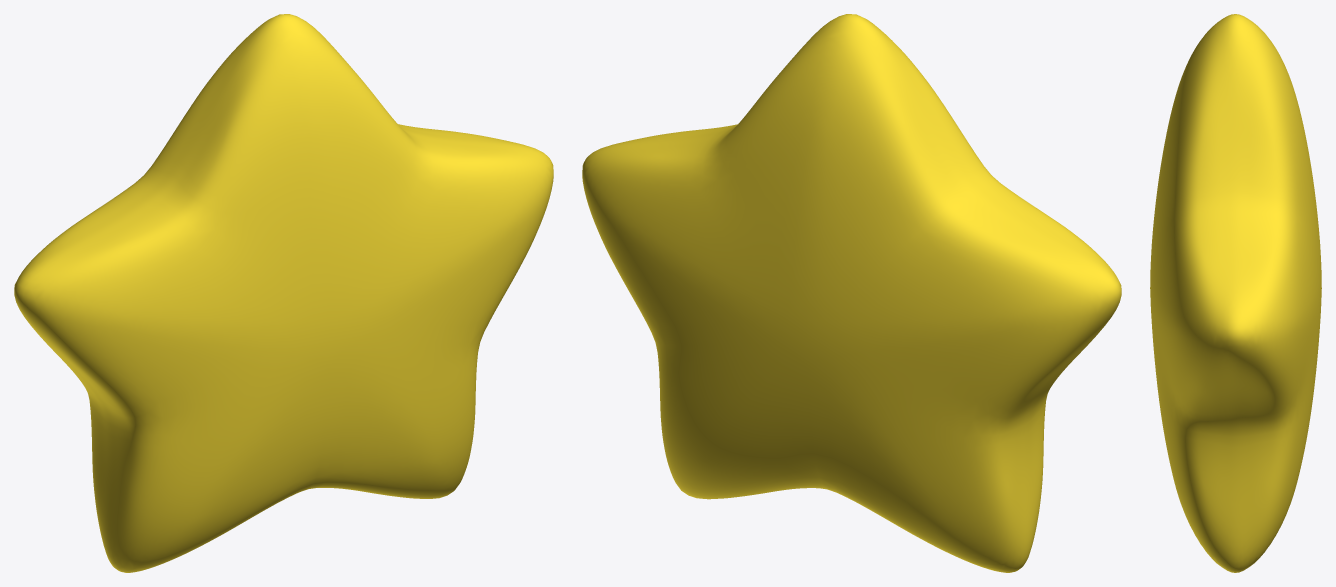
The model's file is Star.fbx.
3 views of the same model, side by side, from view 1: azimuth 30°, elevation 25°; view 2: azimuth 150°, elevation 25°; view 3: azimuth 270°, elevation 25° (orthographic). The views are drawn at different scales.
Visible parts, largest first — view 1: star; view 2: star; view 3: star.
Boxes of the visible parts, x1=… form: star: x1=14, y1=14, x2=553, y2=572; star: x1=582, y1=14, x2=1121, y2=572; star: x1=1150, y1=14, x2=1321, y2=572.
Bounding box in the file's own units: 22.79 × 21.13 × 6.79.
